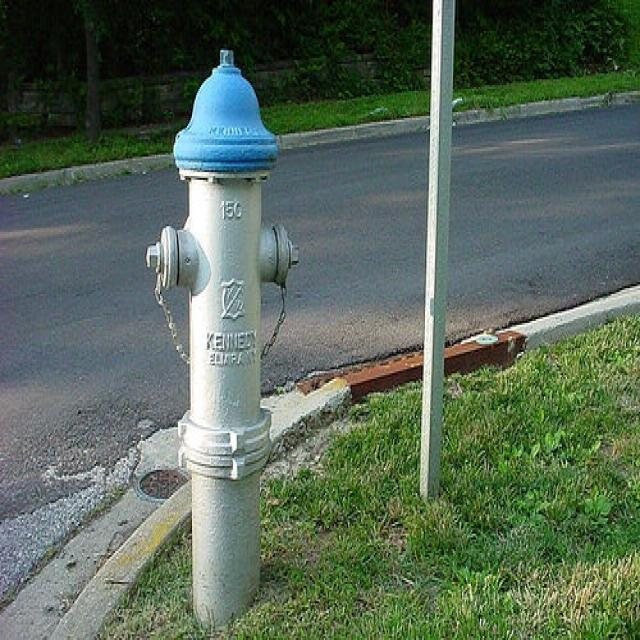fire_hydrant: (142, 41, 298, 630)
pole: (412, 0, 460, 503)
